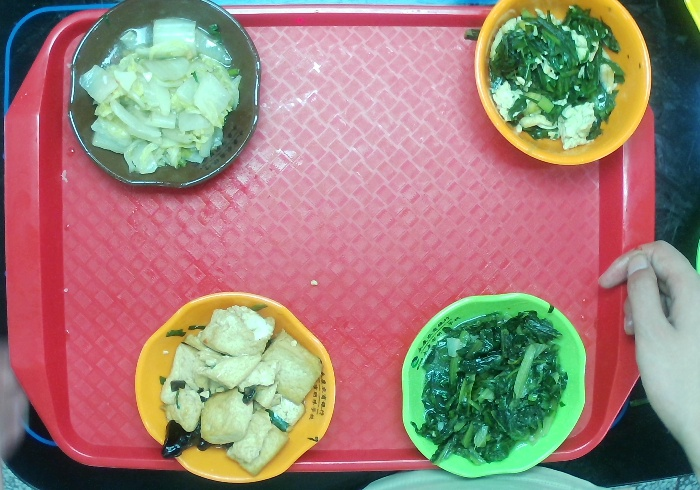YKMZ-Ju_Se_Ao_Bian_Wan: (129, 287, 343, 488)
YKMZ-Ju_Se_Yuan_Wan: (469, 1, 655, 168)
YKMZ-Ka_Fei_Ao_Bian_Wan: (63, 1, 265, 192)
YKMZ-Lv_Se_Ao_Bian_Wan: (398, 289, 590, 482)
